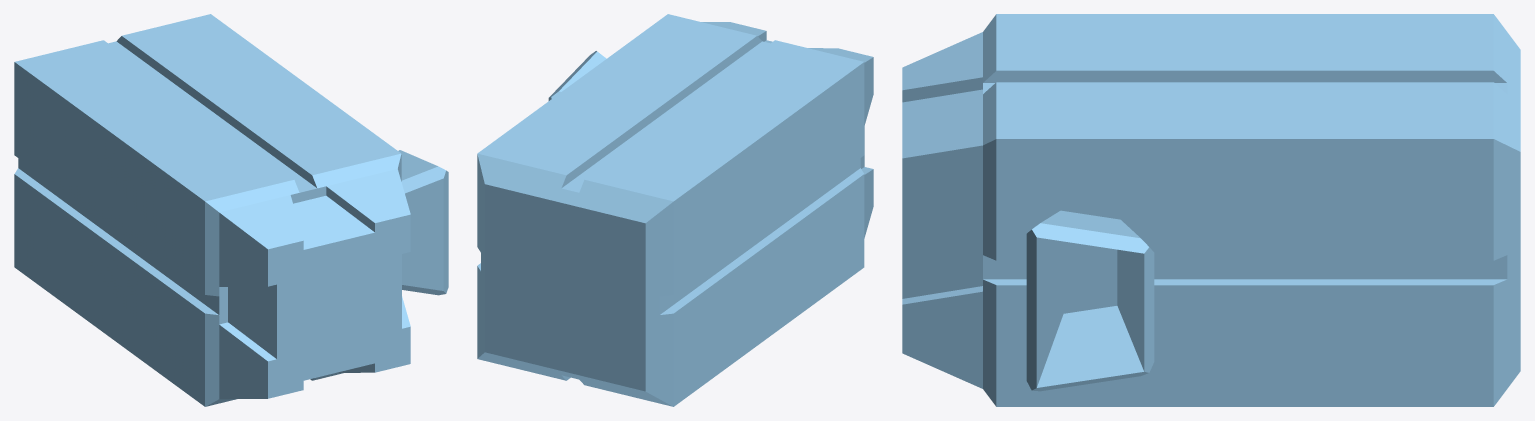
File: Hydrant_v2.fbx
The picture shows the model from 3 angles, left to right: view 1: azimuth 30°, elevation 25°; view 2: azimuth 150°, elevation 25°; view 3: azimuth 270°, elevation 25°; orthographic projection. The views are drawn at different scales.
Visible parts, largest first — view 1: Body1; view 2: Body1; view 3: Body1.
Part boxes in pixels (box(x1,y1,x2,y2)): Body1: box(14, 14, 448, 406); Body1: box(477, 14, 873, 406); Body1: box(902, 14, 1520, 406).
Bounding box in the file's own units: 14.5 × 11 × 23.
